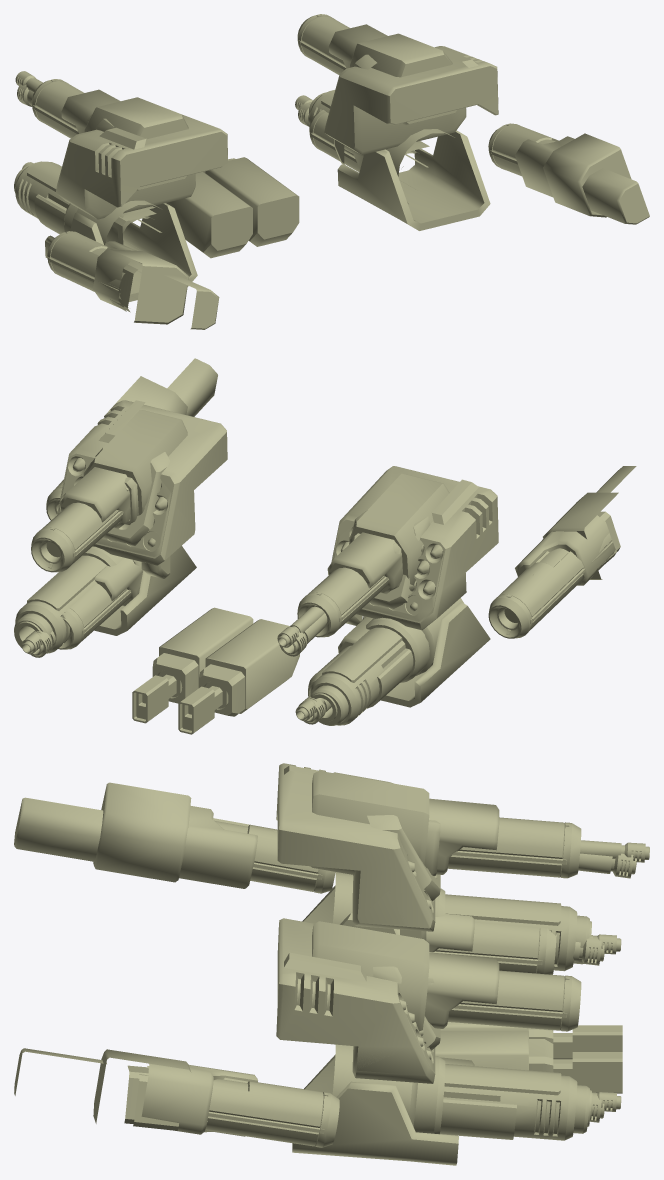
Rendered from CicadaWeapons.glb.
3 renders of one model, top to bottom at view 1: azimuth 30°, elevation 25°; view 2: azimuth 150°, elevation 25°; view 3: azimuth 270°, elevation 25°, orthographic. The views are drawn at different scales.
Visible parts, largest first — view 1: Torso_Left_MH1_Missile15, Torso_Right_MH1_Missile15, Forearm_Right_EH1_PPC, Forearm_Left_EH1_PPC, Torso_Right_BH1_AC20, Torso_Right_BH1_AC10, Torso_Right_EH2_PPC, Torso_Center_EH1_Flamer, Torso_Left_BH1_AC20, Torso_Center_EH2_Flamer, Torso_Left_EH2_PPC, Forearm_Left_EH1_Flamer (+12 smaller); view 2: Torso_Right_EH2_PPC, Torso_Left_MH1_Missile15, Torso_Left_BH1_AC20, Torso_Right_MH1_Missile15, Forearm_Left_EH1_PPC, Torso_Left_EH2_PPC, Torso_Center_EH1_Flamer, Torso_Right_BH1_AC20, Torso_Left_BH2_AC2, Torso_Left_BH1_AC10, Torso_Center_EH2_Flamer, Torso_Right_EH1_PPC (+12 smaller); view 3: Torso_Right_BH1_AC20, Torso_Right_EH2_PPC, Forearm_Left_EH1_PPC, Forearm_Right_EH1_PPC, Torso_Right_MH1_Missile15, Torso_Left_EH2_PPC, Torso_Left_MH1_Missile20, Torso_Left_BH2_AC2, Torso_Left_BH1_AC20, Torso_Left_EH1_PPC, Torso_Left_MH1_Missile15, Torso_Right_MH1_Missile20 (+13 smaller).
Part boxes in pixels (x1=…): Torso_Left_MH1_Missile15: x1=56, y1=114, x2=227, y2=219; Torso_Right_MH1_Missile15: x1=324, y1=46, x2=498, y2=165; Forearm_Right_EH1_PPC: x1=488, y1=123, x2=649, y2=223; Forearm_Left_EH1_PPC: x1=47, y1=231, x2=219, y2=329; Torso_Right_BH1_AC20: x1=309, y1=90, x2=490, y2=224; Torso_Right_BH1_AC10: x1=337, y1=132, x2=486, y2=230; Torso_Right_EH2_PPC: x1=297, y1=14, x2=452, y2=76; Torso_Center_EH1_Flamer: x1=166, y1=174, x2=252, y2=258; Torso_Left_BH1_AC20: x1=14, y1=161, x2=197, y2=301; Torso_Center_EH2_Flamer: x1=205, y1=157, x2=299, y2=246; Torso_Left_EH2_PPC: x1=31, y1=79, x2=144, y2=138; Forearm_Left_EH1_Flamer: x1=86, y1=242, x2=218, y2=327; Torso_Right_EH2_PPC: x1=31, y1=410, x2=187, y2=572; Torso_Left_MH1_Missile15: x1=331, y1=466, x2=498, y2=630; Torso_Left_BH1_AC20: x1=310, y1=602, x2=475, y2=725; Torso_Right_MH1_Missile15: x1=57, y1=400, x2=227, y2=578; Forearm_Left_EH1_PPC: x1=488, y1=468, x2=620, y2=638; Torso_Left_EH2_PPC: x1=297, y1=483, x2=449, y2=637; Torso_Center_EH1_Flamer: x1=178, y1=620, x2=299, y2=734; Torso_Right_BH1_AC20: x1=14, y1=546, x2=150, y2=653; Torso_Left_BH2_AC2: x1=277, y1=473, x2=448, y2=647; Torso_Left_BH1_AC10: x1=311, y1=598, x2=490, y2=721; Torso_Center_EH2_Flamer: x1=132, y1=613, x2=253, y2=723; Torso_Right_EH1_PPC: x1=58, y1=558, x2=143, y2=649; Torso_Right_BH1_AC20: x1=292, y1=1044, x2=589, y2=1162; Torso_Right_EH2_PPC: x1=312, y1=921, x2=581, y2=1036; Forearm_Left_EH1_PPC: x1=14, y1=783, x2=335, y2=893; Forearm_Right_EH1_PPC: x1=14, y1=1048, x2=339, y2=1147; Torso_Right_MH1_Missile15: x1=276, y1=918, x2=435, y2=1082; Torso_Left_EH2_PPC: x1=429, y1=798, x2=581, y2=878; Torso_Left_MH1_Missile20: x1=276, y1=770, x2=434, y2=940; Torso_Left_BH2_AC2: x1=312, y1=771, x2=649, y2=874; Torso_Left_BH1_AC20: x1=302, y1=872, x2=589, y2=971; Torso_Left_EH1_PPC: x1=426, y1=913, x2=556, y2=974; Torso_Left_MH1_Missile15: x1=276, y1=763, x2=435, y2=931; Torso_Right_MH1_Missile20: x1=277, y1=919, x2=434, y2=1083.
Bounding box in the file's own units: 1.3 × 0.4735 × 1.2.
